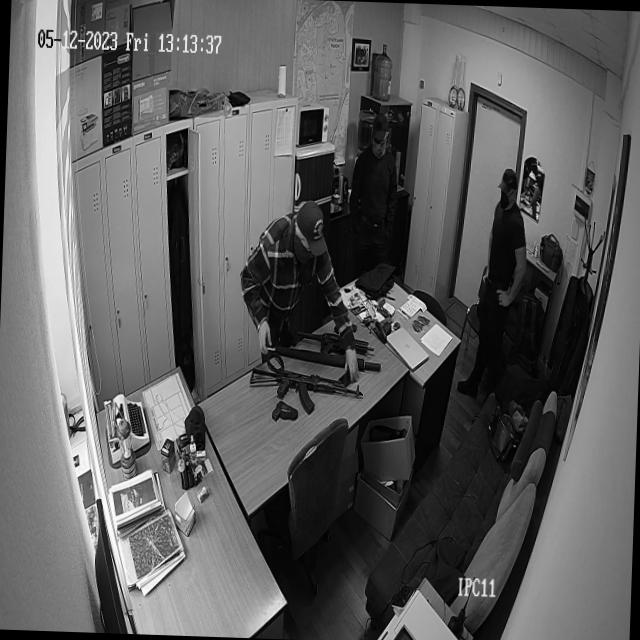gun: (248, 371, 365, 407), (292, 330, 374, 352), (270, 398, 300, 427)
person: (464, 161, 530, 388), (344, 102, 402, 260)
person with a gun: (236, 195, 366, 378)
